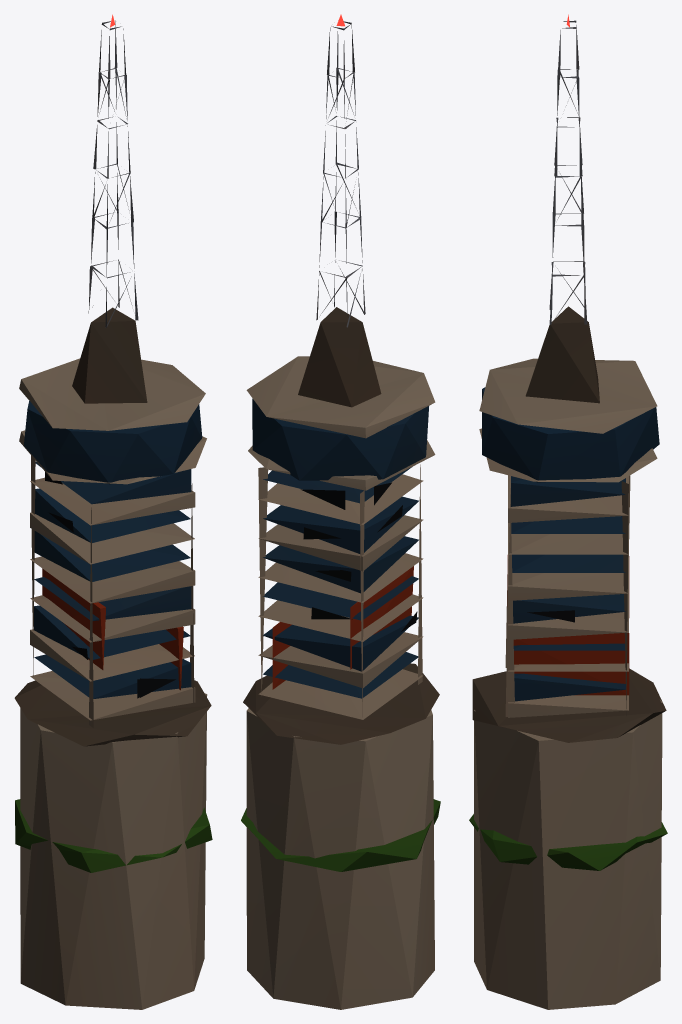
The model's file is tb_tower_spire.three-web-toon.lod25.glb.
The picture shows the model from 3 angles, left to right: view 1: azimuth 30°, elevation 25°; view 2: azimuth 150°, elevation 25°; view 3: azimuth 270°, elevation 25°; orthographic projection.
Parts seen in each view (by area): view 1: tower_spire_body_lod; view 2: tower_spire_body_lod; view 3: tower_spire_body_lod.
Boxes of the visible parts, <box> form: tower_spire_body_lod: <box>14,14,212,1009</box>; tower_spire_body_lod: <box>241,14,440,1009</box>; tower_spire_body_lod: <box>469,14,667,1009</box>.
Size of the model in its own units: 14.83 by 78.5 by 14.81.
